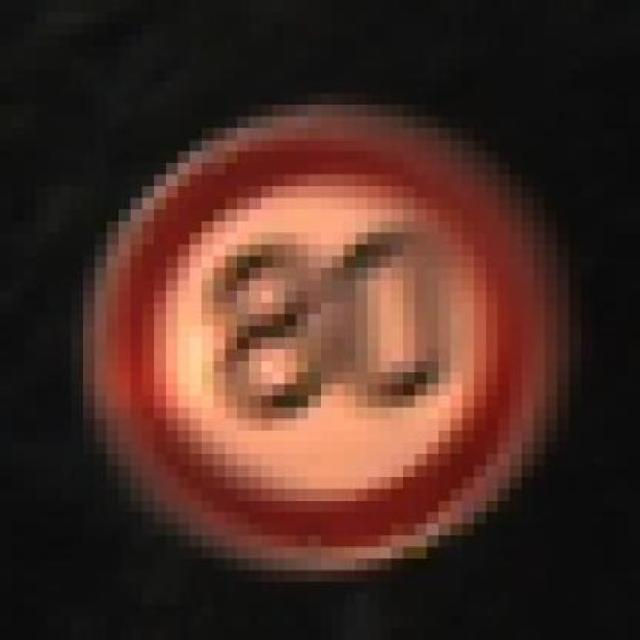forb_speed_over_80: (105, 116, 549, 558)
